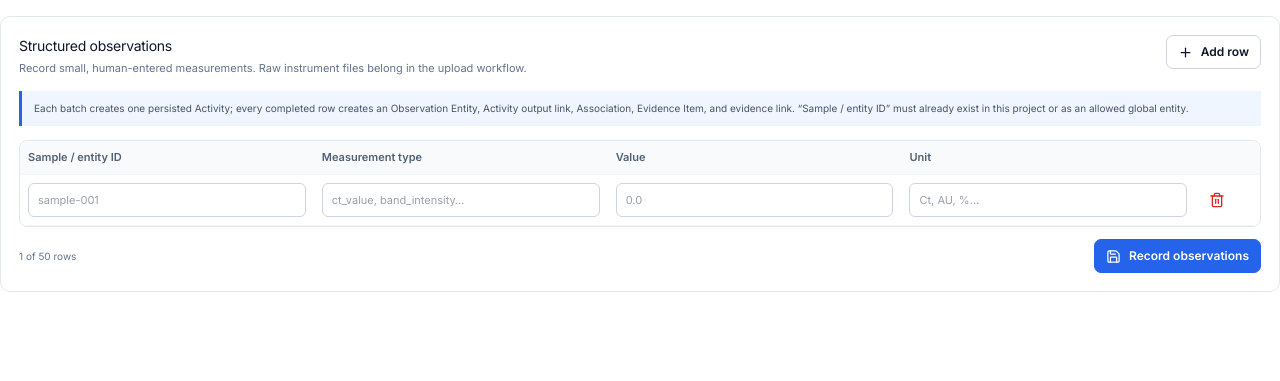
it: ProjectObservationTable › reports success only when the full observation evidence chain persisted
The image size is (1280, 381).
Type "sample-1" into the field named "Row 1 sample or entity ID" at point(167, 200), box 28,182 -> 306,217
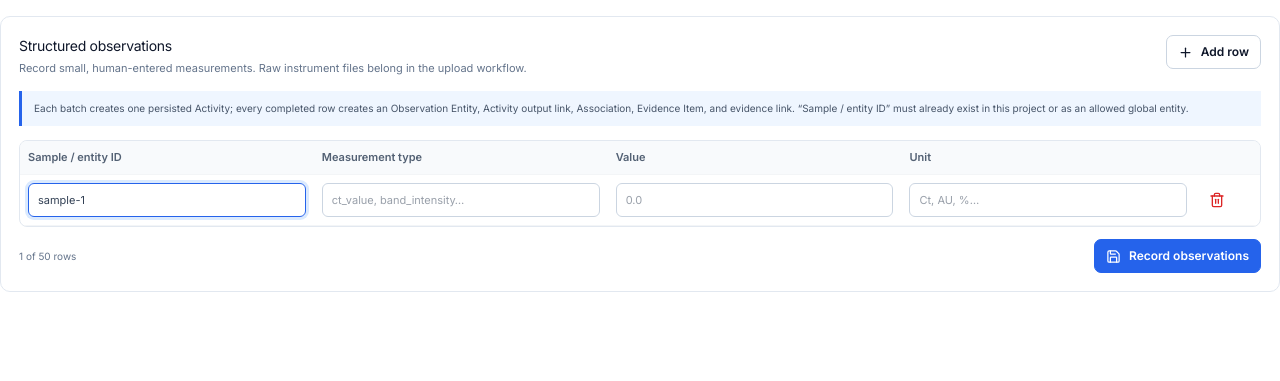
Type "ct_value" into the field named "Row 1 measurement type" at point(461, 200), box 322,182 -> 600,217
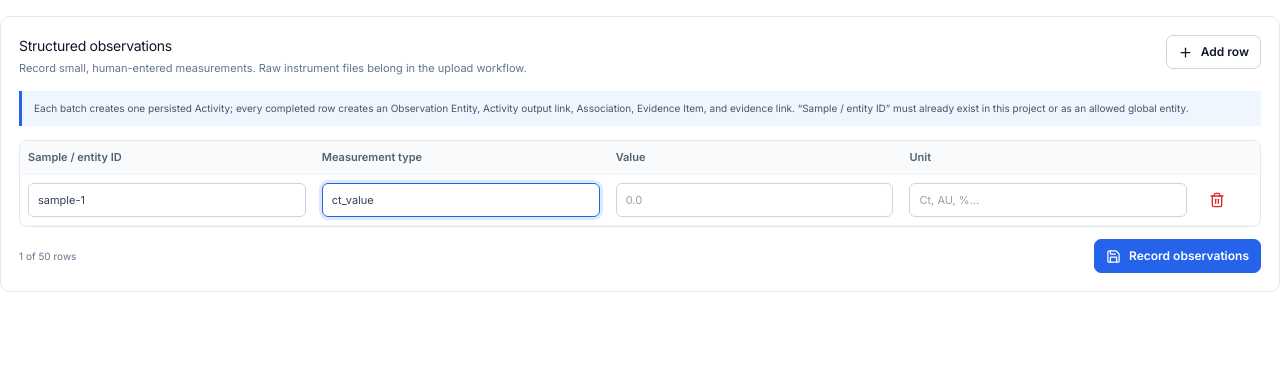
Type "19.4" into the number field named "Row 1 value" at point(755, 200), box 616,182 -> 894,217
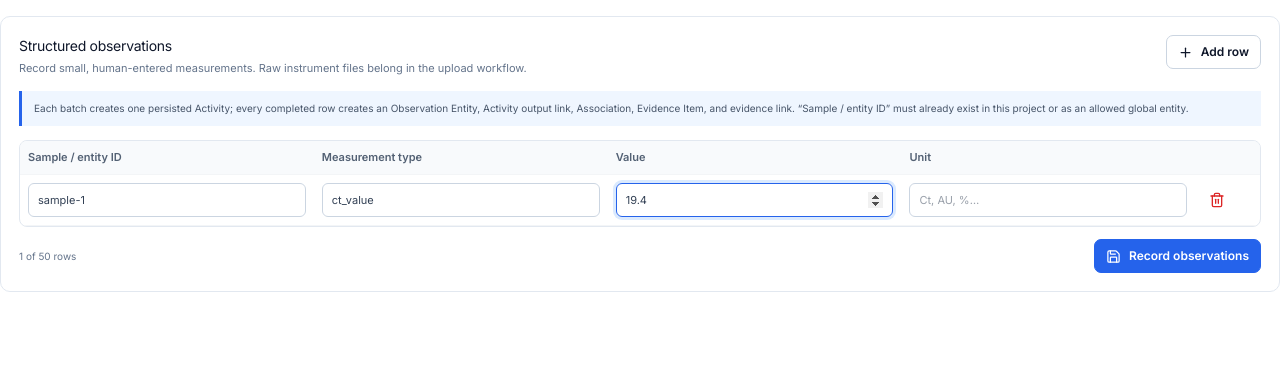
Type "Ct" into the field named "Row 1 unit" at point(1048, 200), box 910,182 -> 1187,217
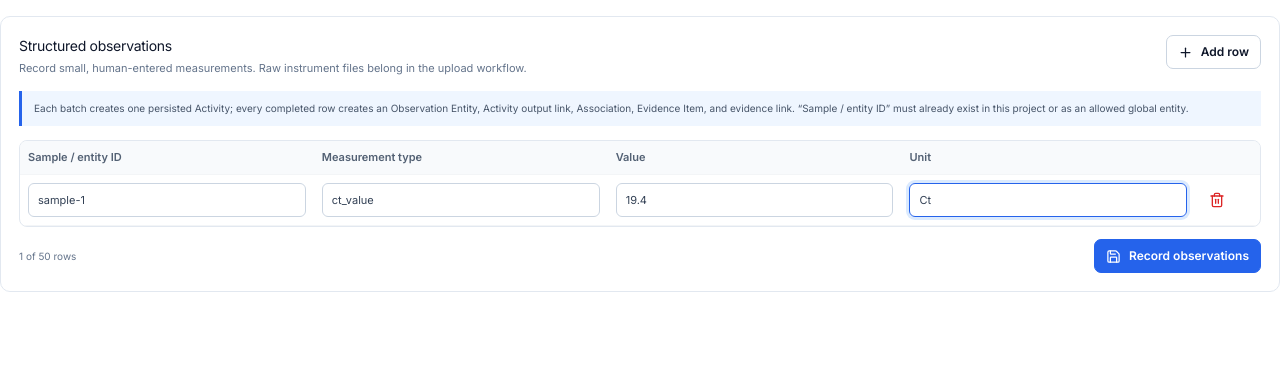
Click the button "Record observations" at point(1178, 256), box 1094,239 -> 1261,273
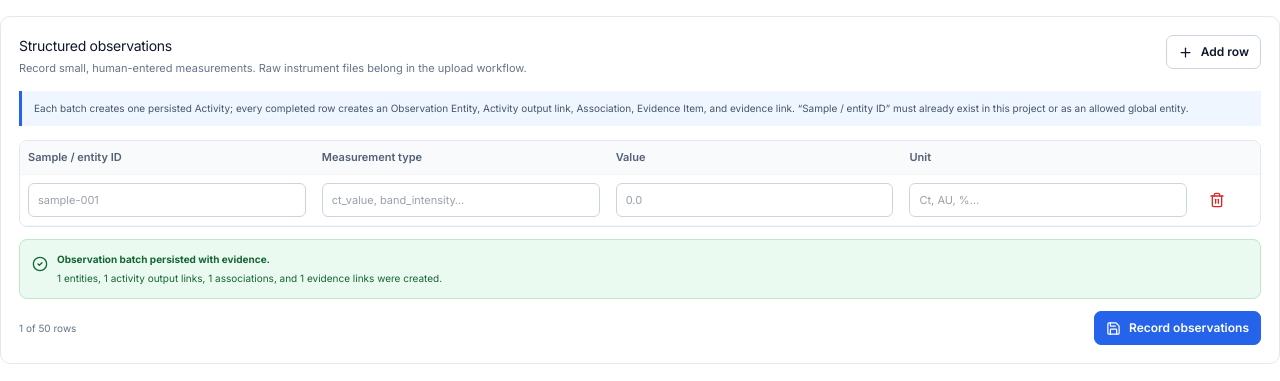
Expected: the message shows "Observation batch persisted with evidence", 57,253 -> 270,265
Expected: the field named "Row 1 sample or entity ID" is empty, 28,182 -> 306,217
